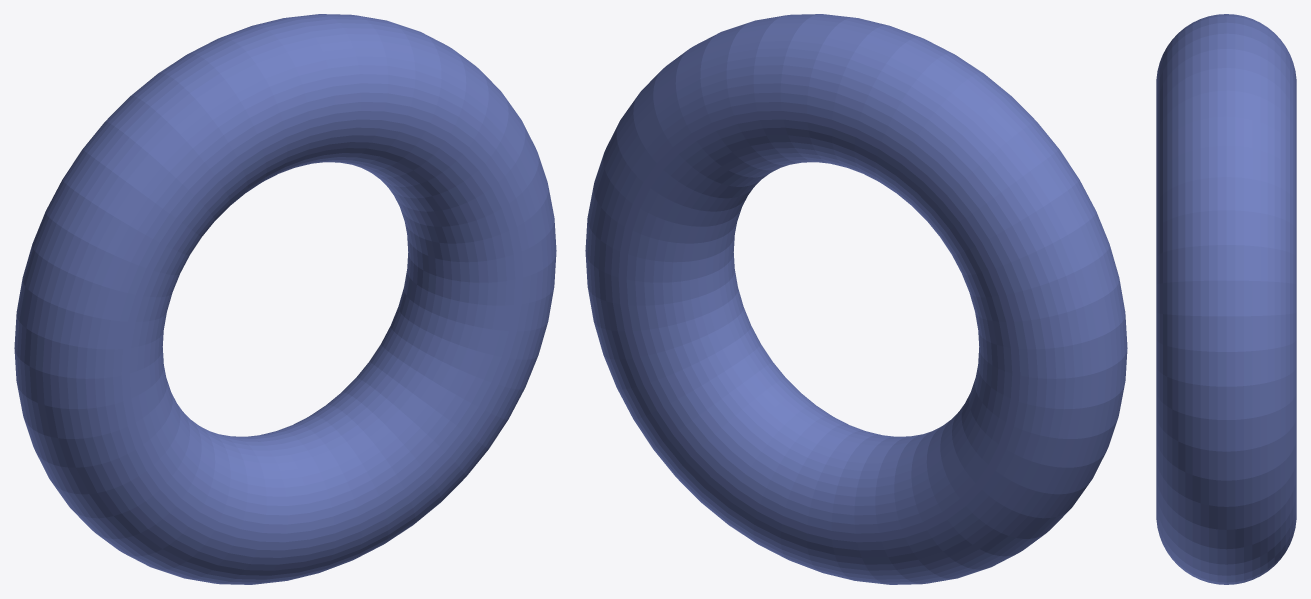
The picture shows the model from 3 angles, left to right: view 1: azimuth 30°, elevation 25°; view 2: azimuth 150°, elevation 25°; view 3: azimuth 270°, elevation 25°; orthographic projection. The views are drawn at different scales.
Visible parts, largest first — view 1: world; view 2: world; view 3: world.
Part boxes in pixels (bbox=[...]): world: bbox=[14, 14, 556, 584]; world: bbox=[585, 14, 1127, 584]; world: bbox=[1156, 14, 1296, 584].
Size of the model in its own units: 16.8 by 16.77 by 4.13.
